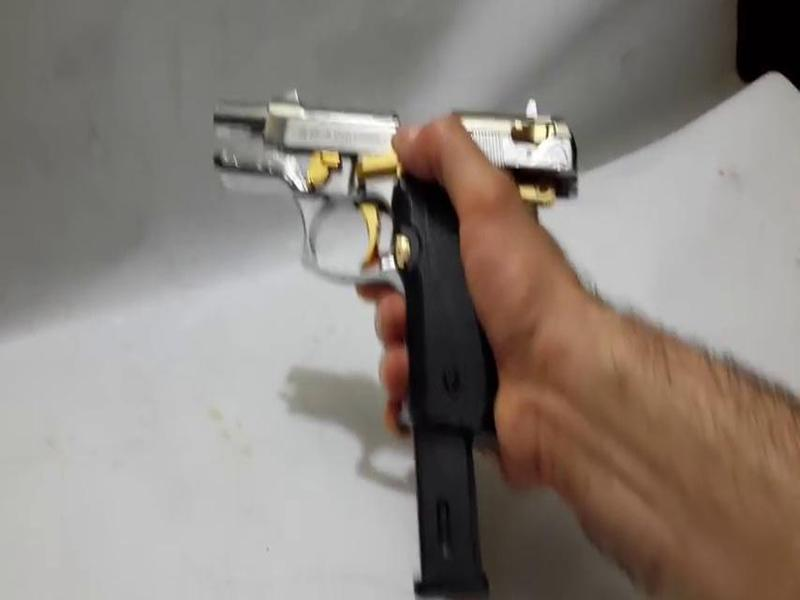Pistola: (202, 71, 610, 438)
